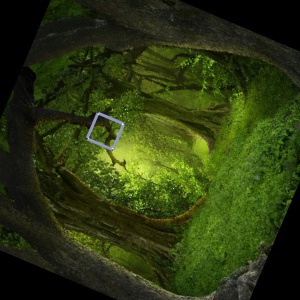square: (83, 108, 127, 151)
